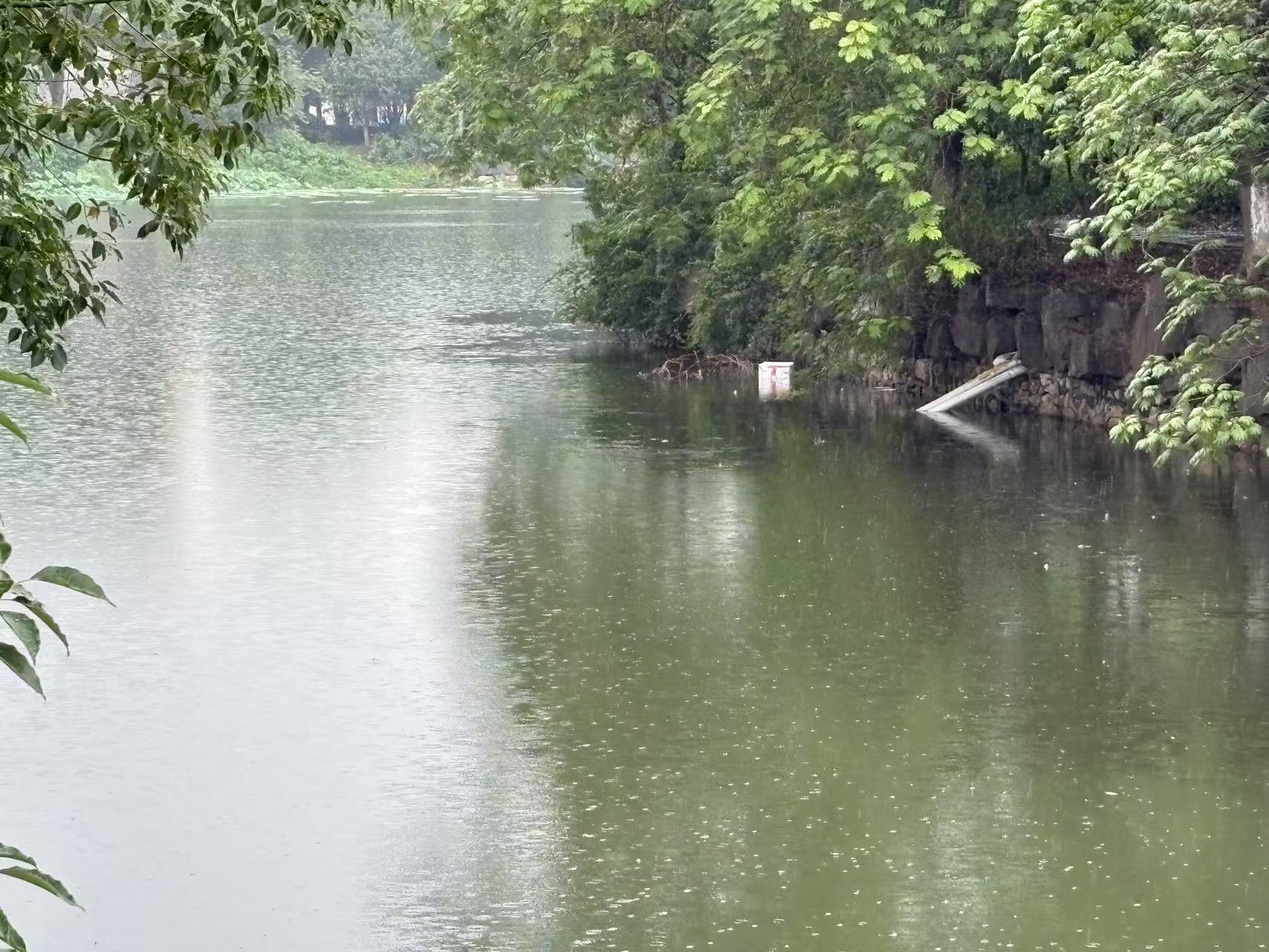Plastic wastes: (759, 357, 795, 391)
